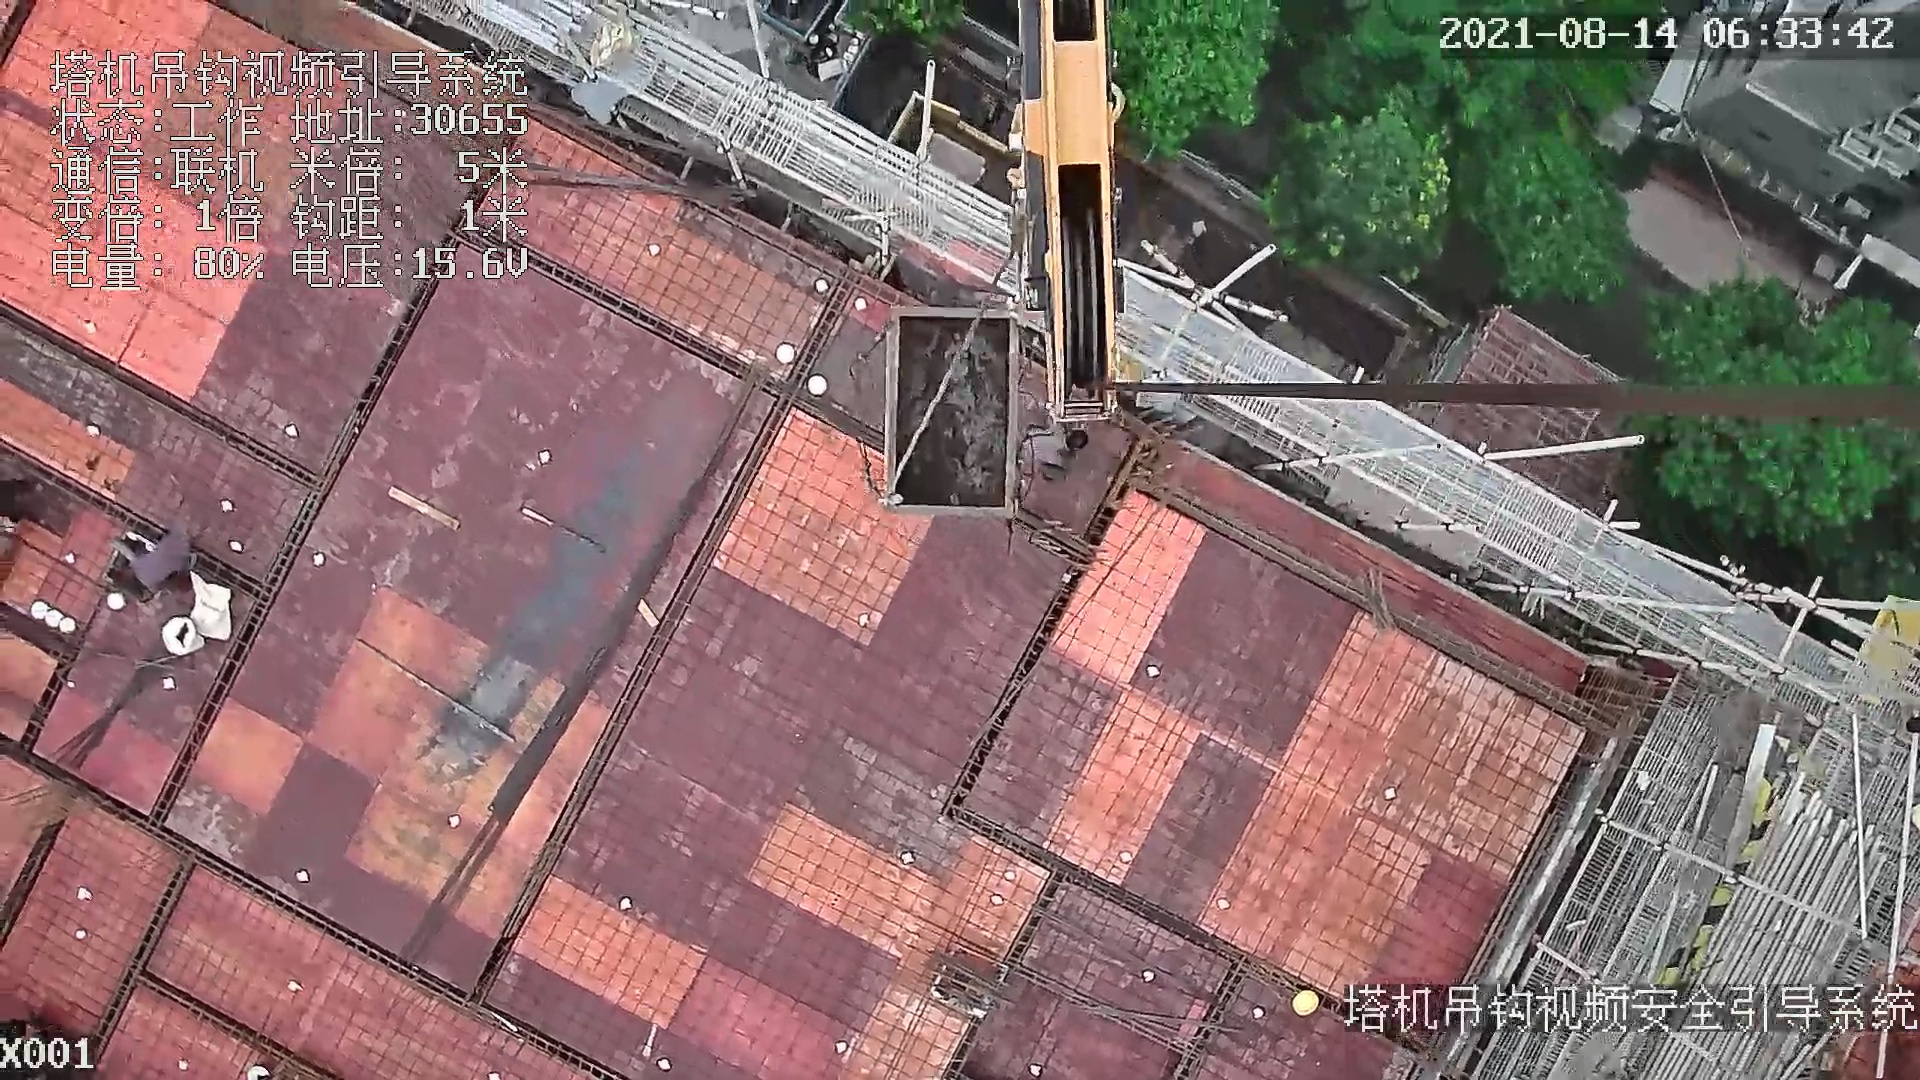helmet: (1294, 985, 1323, 1024)
hook: (1008, 1, 1117, 415)
hopper: (873, 290, 1033, 527)
person: (106, 527, 195, 596)
